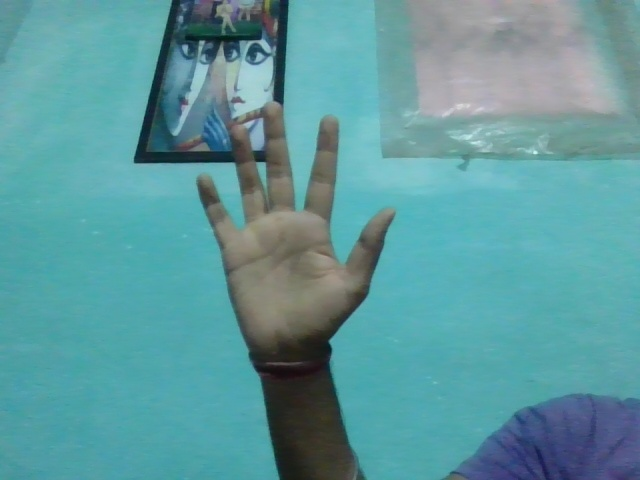hello: (189, 99, 402, 370)
